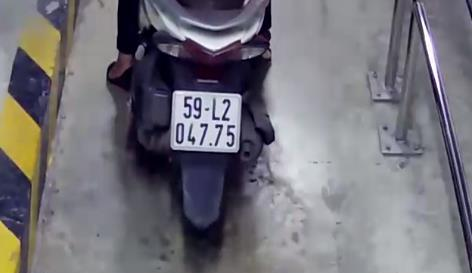lisence: (170, 90, 241, 153)
